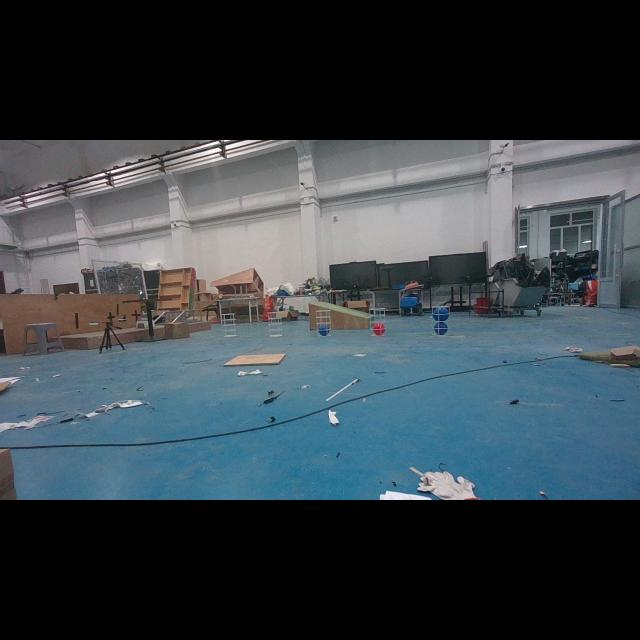B: (434, 308, 451, 322), (432, 323, 450, 335), (318, 324, 330, 336)
R: (372, 323, 388, 333)
S: (428, 304, 454, 338), (367, 306, 389, 339), (314, 309, 334, 339), (265, 310, 285, 338), (220, 312, 238, 340)
